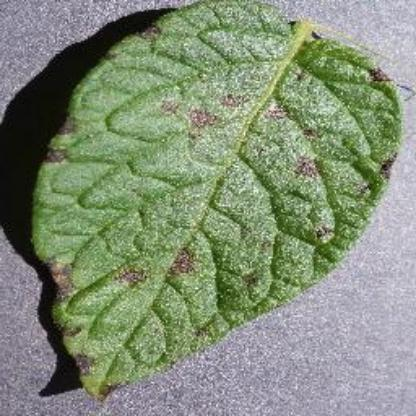Early-Blight: (21, 2, 416, 410)
